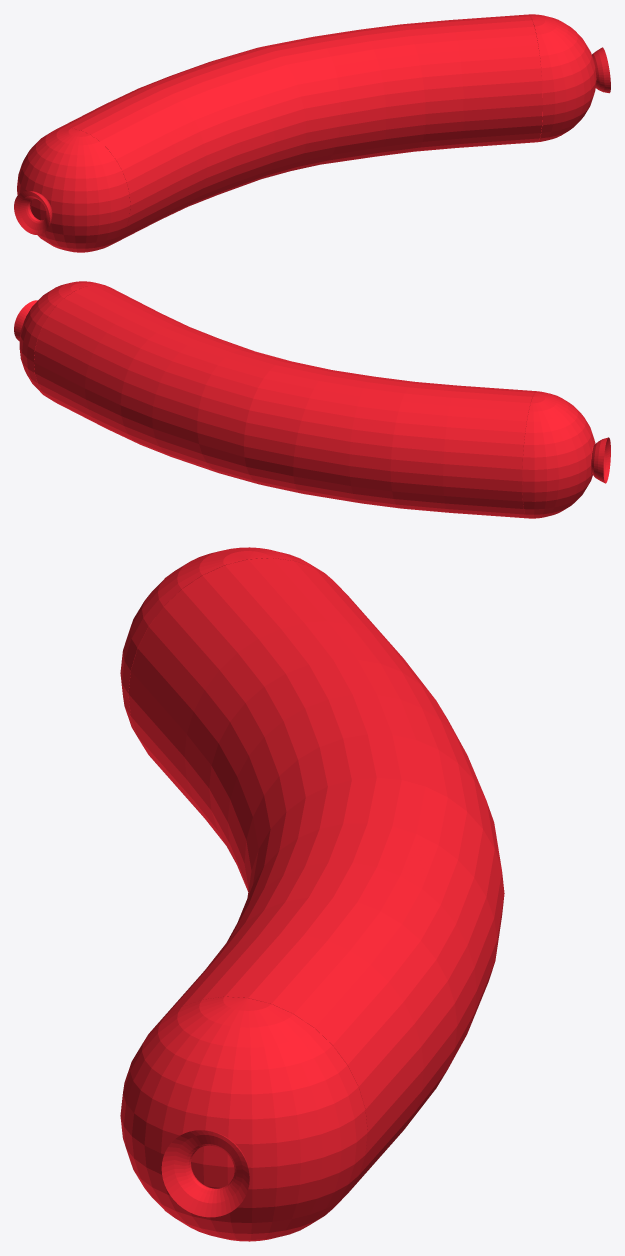
File: worst.fbx
3 renders of one model, top to bottom at view 1: azimuth 30°, elevation 25°; view 2: azimuth 150°, elevation 25°; view 3: azimuth 270°, elevation 25°, orthographic. The views are drawn at different scales.
Visible parts, largest first — view 1: Sphere, Torus.002, Torus.001; view 2: Sphere, Torus.002; view 3: Sphere, Torus.001.
Boxes of the visible parts, x1,y1,x2,y2 form: Sphere: (17, 14, 596, 252); Torus.002: (14, 191, 52, 234); Torus.001: (592, 47, 610, 93); Sphere: (19, 281, 595, 518); Torus.002: (590, 437, 610, 483); Sphere: (120, 547, 504, 1241); Torus.001: (161, 1130, 249, 1217).
Size of the model in its own units: 779 by 147 by 221.
